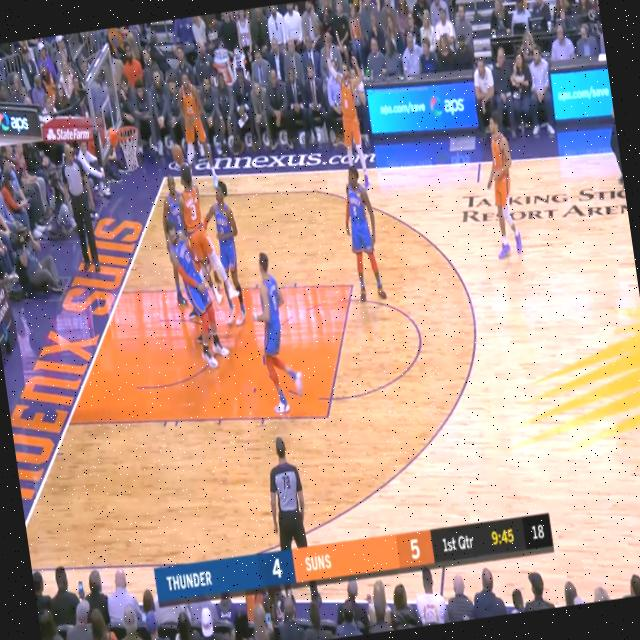Foul: (164, 189, 217, 308)
